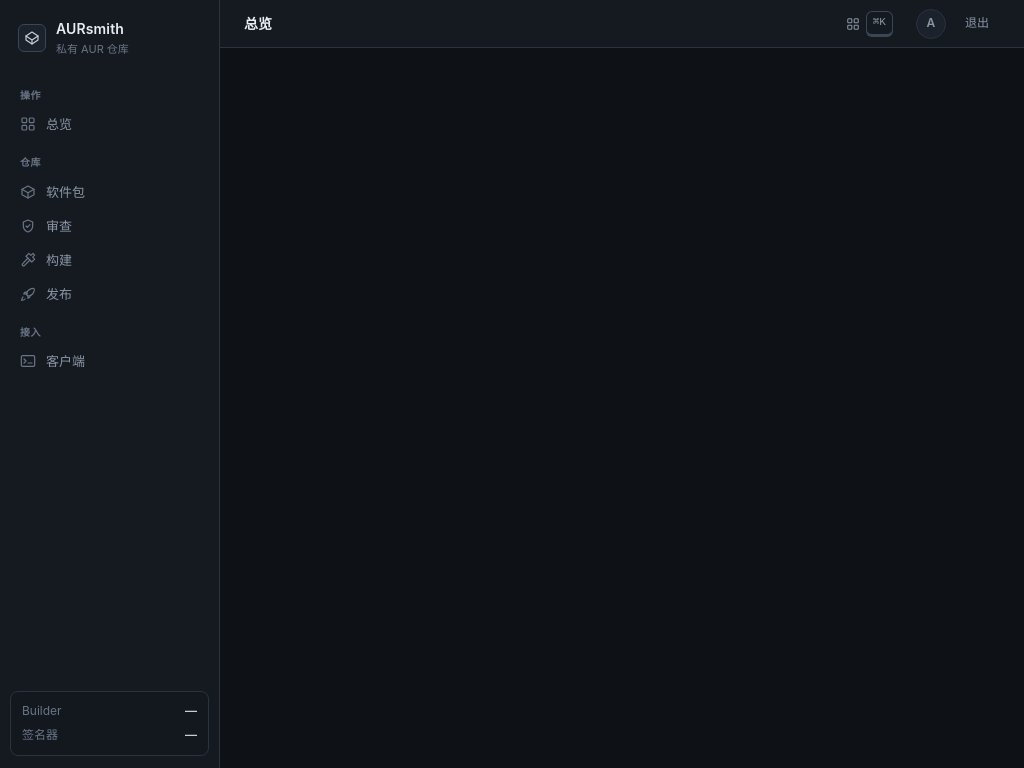
Test: AURsmith 控制台 › 退出失败时保持当前界面并显示错误
Click the button with aria-label "退出登录".
click(977, 24)  # box [954, 10, 1000, 38]
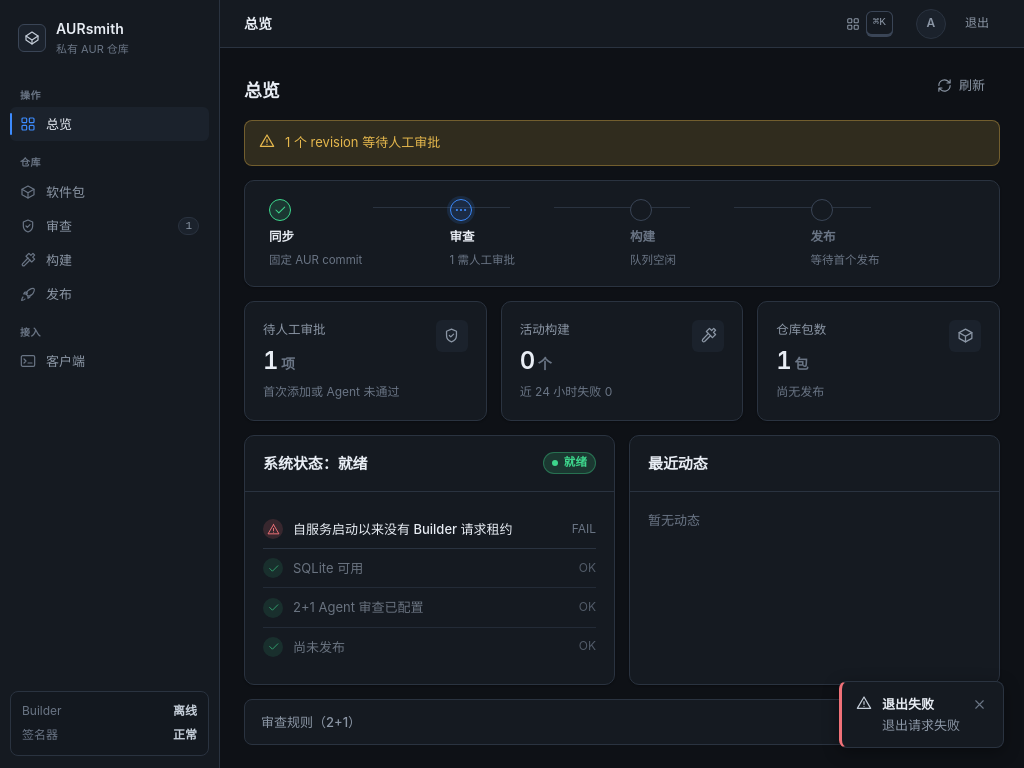
Check: the text titled "admin" is shown, box [916, 8, 946, 38]
Check: the message shows "退出请求失败", box [882, 716, 960, 732]
